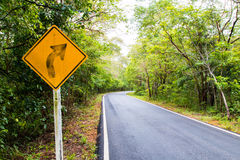right: (20, 23, 89, 93)
